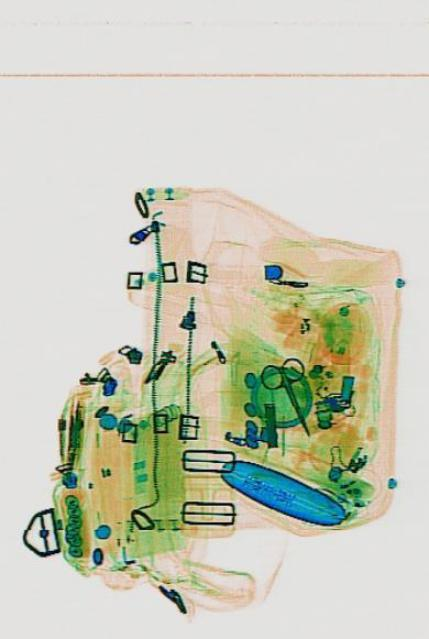Scissors: (257, 345, 320, 450)
